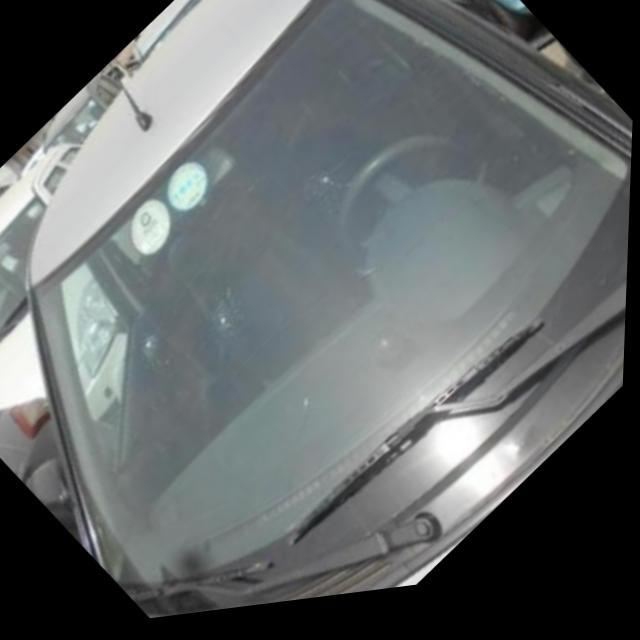glass shatter: (196, 289, 267, 361), (141, 326, 167, 372), (316, 170, 346, 207)
